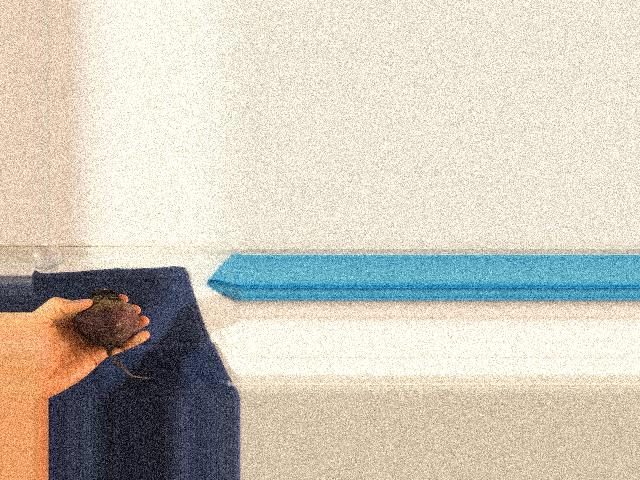beet: (74, 288, 153, 379)
